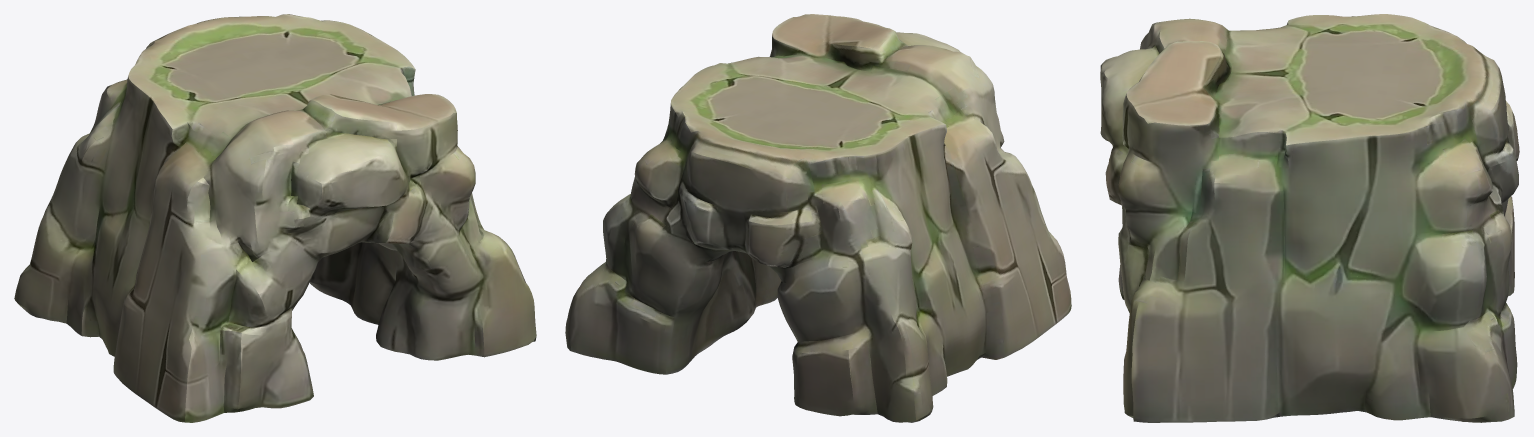
The model's file is rock_cave.glb.
3 views of the same model, side by side, from view 1: azimuth 30°, elevation 25°; view 2: azimuth 150°, elevation 25°; view 3: azimuth 270°, elevation 25° (orthographic). The views are drawn at different scales.
Parts seen in each view (by area): view 1: output; view 2: output; view 3: output.
Boxes of the visible parts, x1,y1,x2,y2 form: output: (14,14,536,422); output: (565,14,1071,422); output: (1100,14,1519,422).
Size of the model in its own units: 2.01 by 1.35 by 1.81.
1 material, 1 textured.
